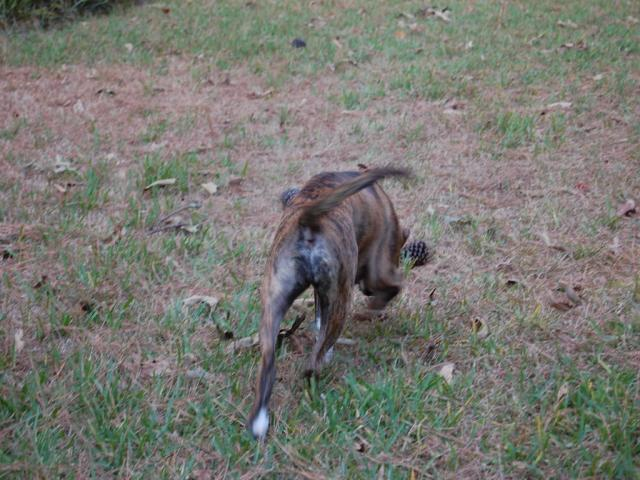Dog: (244, 162, 419, 444)
